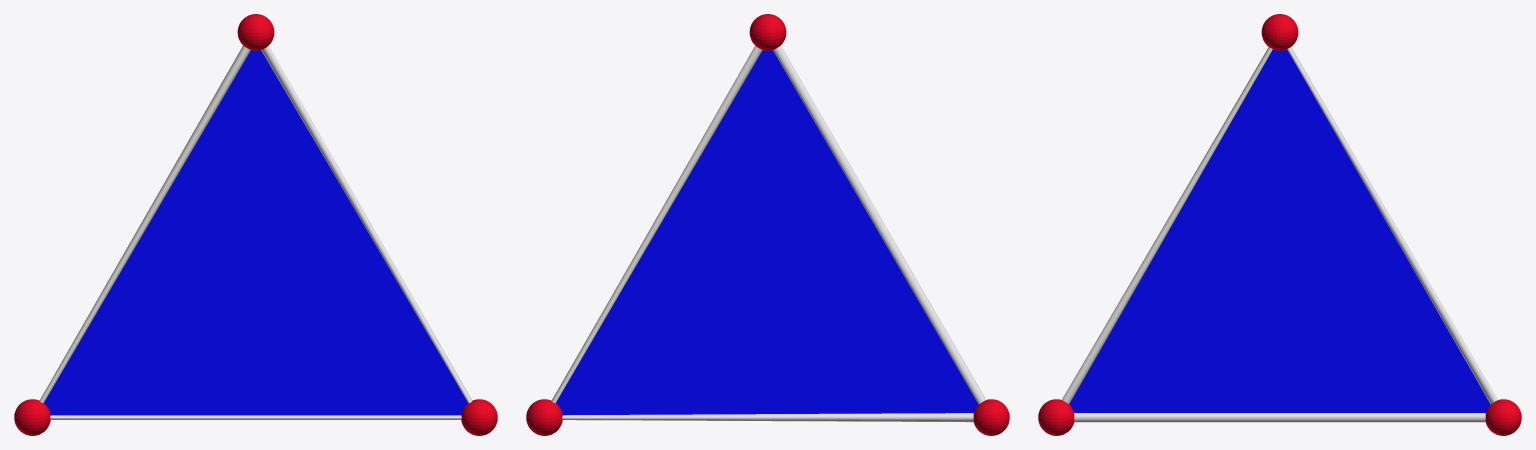
3 renders of one model, left to right at view 1: azimuth 30°, elevation 25°; view 2: azimuth 150°, elevation 25°; view 3: azimuth 270°, elevation 25°, orthographic.
Visible parts, largest first — view 1: Full, F, E, V; view 2: Full, F, E, V; view 3: Full, F, E, V.
Boxes of the visible parts, box(x1,y1,x2,y2) form: Full: box(39, 45, 472, 419); F: box(165, 50, 337, 196); E: box(40, 48, 471, 418); V: box(14, 14, 497, 435); Full: box(551, 45, 986, 422); F: box(693, 50, 856, 196); E: box(552, 48, 985, 419); V: box(526, 14, 1009, 435); Full: box(1062, 47, 1497, 422); F: box(1070, 49, 1489, 412); E: box(1063, 47, 1497, 420); V: box(1038, 14, 1521, 435).
Size of the model in its own units: 165 by 156 by 188.
